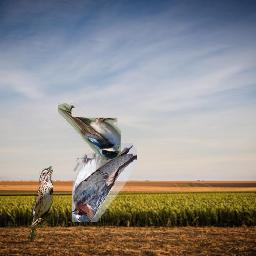Sparrow: (29, 166, 54, 242)
Swallow: (73, 144, 138, 223), (59, 103, 122, 160)
